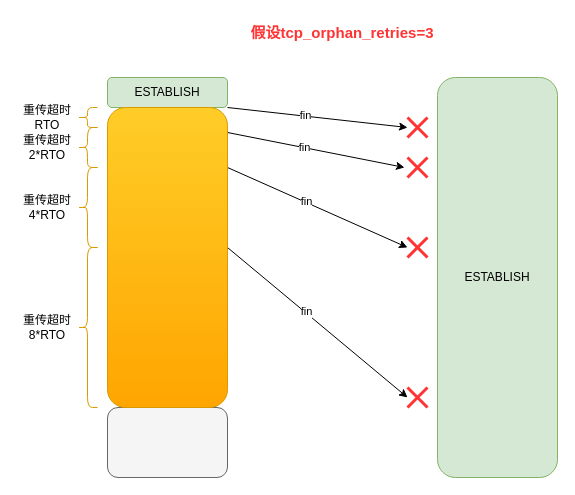
The diagram is 575 pixels wide and 495 high, and some of its shapes have lost their labels. The shapes that lost their labels are listed below. From the top down, each one's box as (x1, y1, x2, y2) in pixels, then its label:
(106, 106, 228, 408): FIN_WAIT_1
(106, 406, 228, 478): CLOSE
